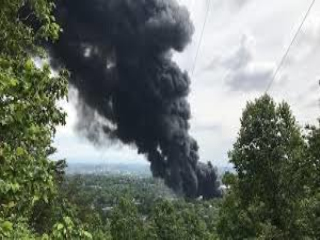smoke: (72, 10, 225, 195)
